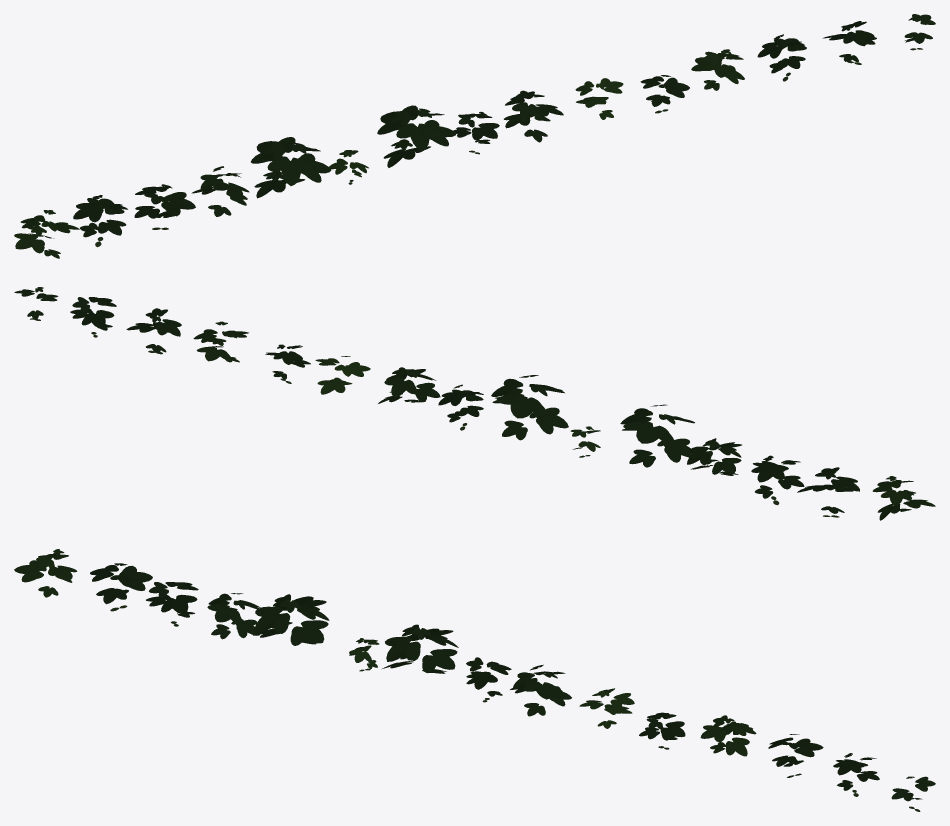
Rendered from ROW_03_SEG1_foliage.dae.
The picture shows the model from 3 angles, top to bottom: view 1: azimuth 30°, elevation 25°; view 2: azimuth 150°, elevation 25°; view 3: azimuth 330°, elevation 25°; orthographic projection.
Visible parts, largest first — view 1: ROW_03_SEG1_foliage; view 2: ROW_03_SEG1_foliage; view 3: ROW_03_SEG1_foliage.
Boxes of the visible parts, bbox=[...] form: ROW_03_SEG1_foliage: bbox=[14, 14, 935, 258]; ROW_03_SEG1_foliage: bbox=[14, 287, 935, 520]; ROW_03_SEG1_foliage: bbox=[14, 549, 935, 811].
Size of the model in its own units: 4.5 by 0.3778 by 0.2993.
